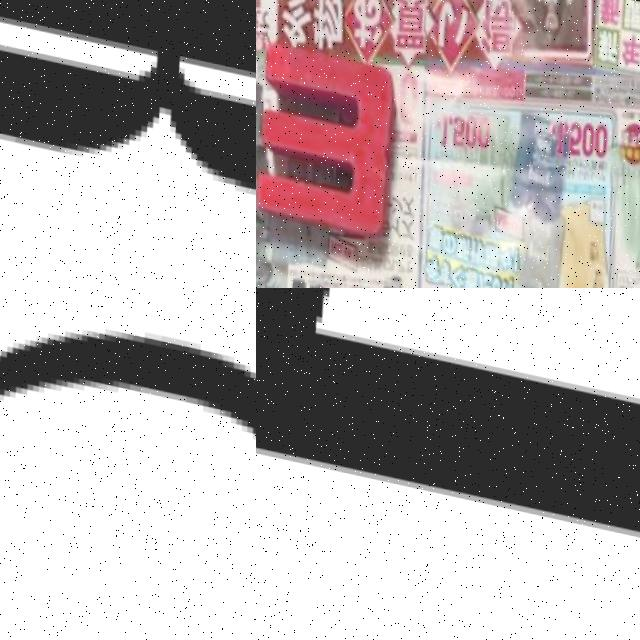1: (256, 288, 640, 640)
Q: (0, 288, 256, 640)
R: (0, 0, 256, 280)
W: (256, 36, 410, 247)
